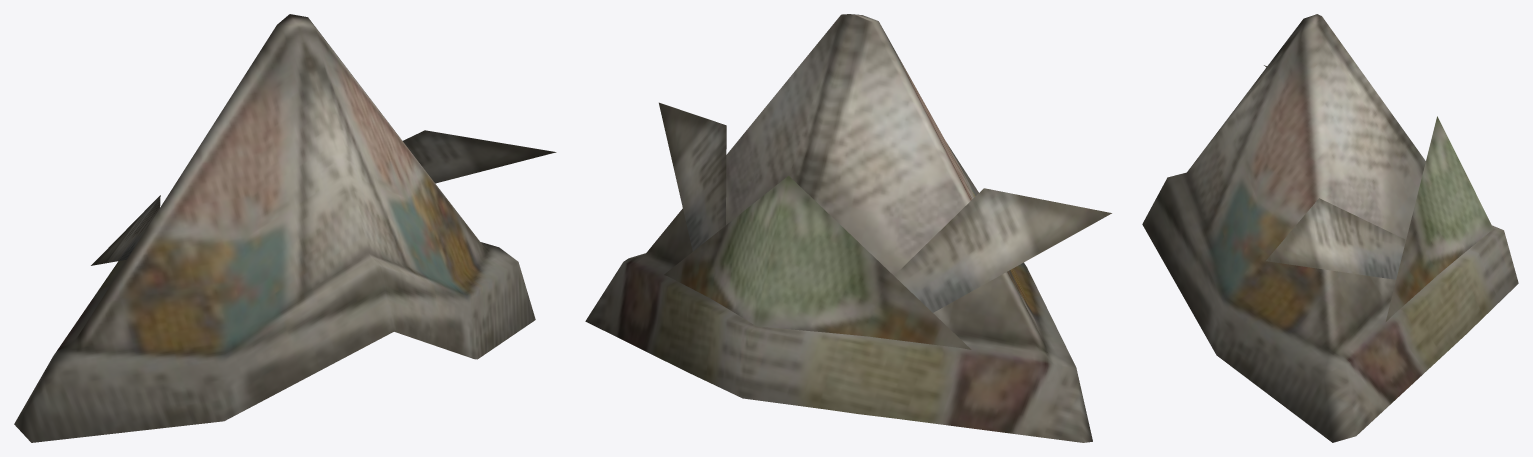
The model's file is paperHat.glb.
3 views of the same model, side by side, from view 1: azimuth 30°, elevation 25°; view 2: azimuth 150°, elevation 25°; view 3: azimuth 270°, elevation 25° (orthographic). The views are drawn at different scales.
Visible parts, largest first — view 1: paperHat; view 2: paperHat; view 3: paperHat.
Boxes of the visible parts, x1,y1,x2,y2 form: paperHat: [14, 14, 556, 442]; paperHat: [585, 14, 1111, 442]; paperHat: [1142, 14, 1518, 442].
Size of the model in its own units: 0.31 by 0.2153 by 0.2291.
Materials: 1 (1 with a texture image).
